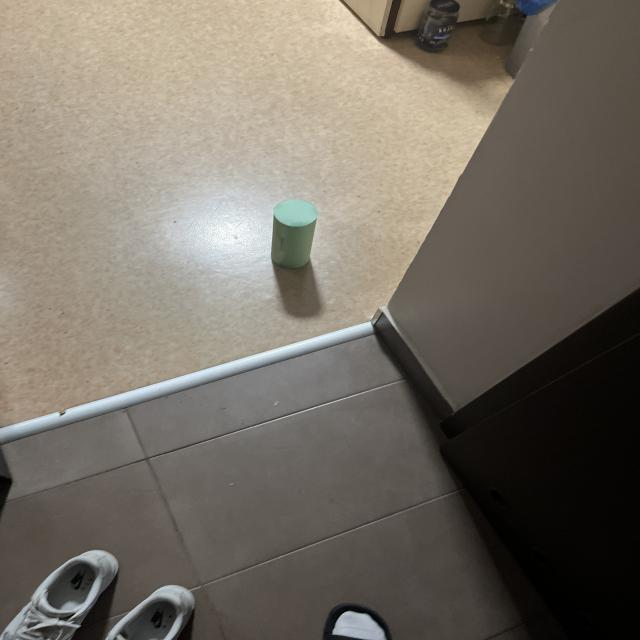meta: (271, 200, 318, 268)
